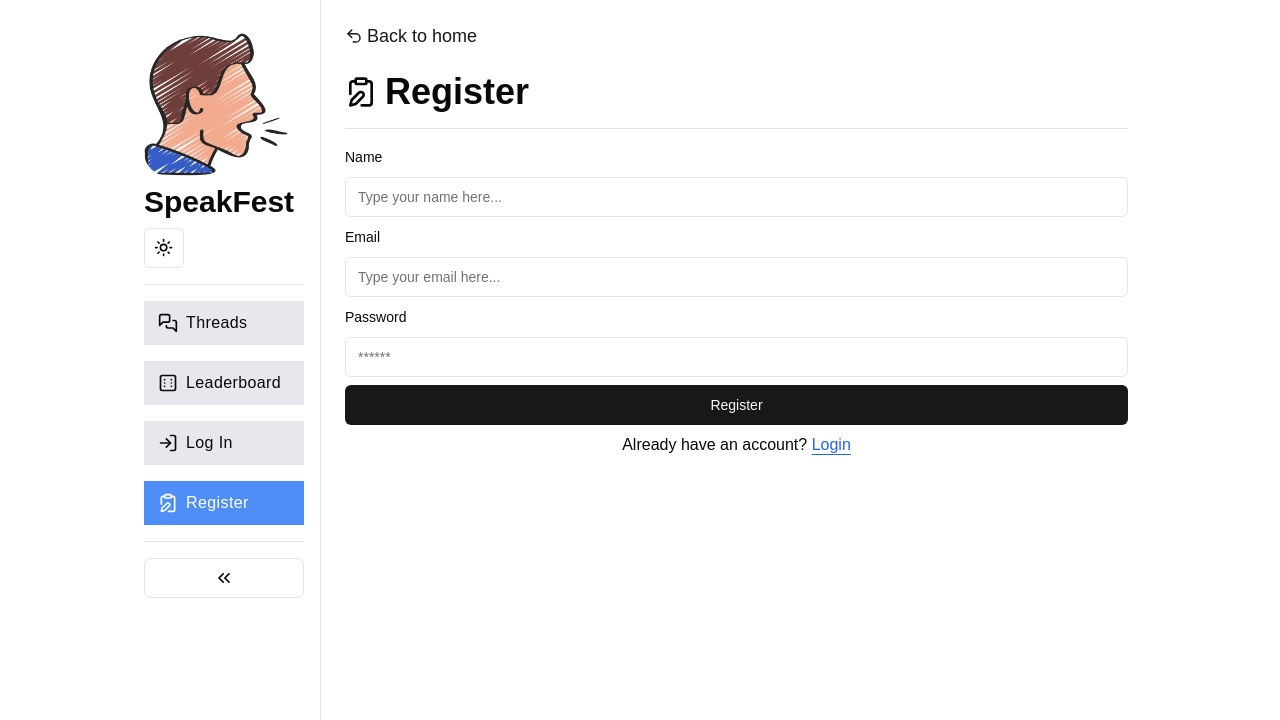
Test: Register spec › should display error message and disabled button register if name less than 3 character
The width and height of the screenshot is (1280, 720).
In the field labelled "Name": [737, 197] box left=345, top=177, right=1128, bottom=217, type "ze"
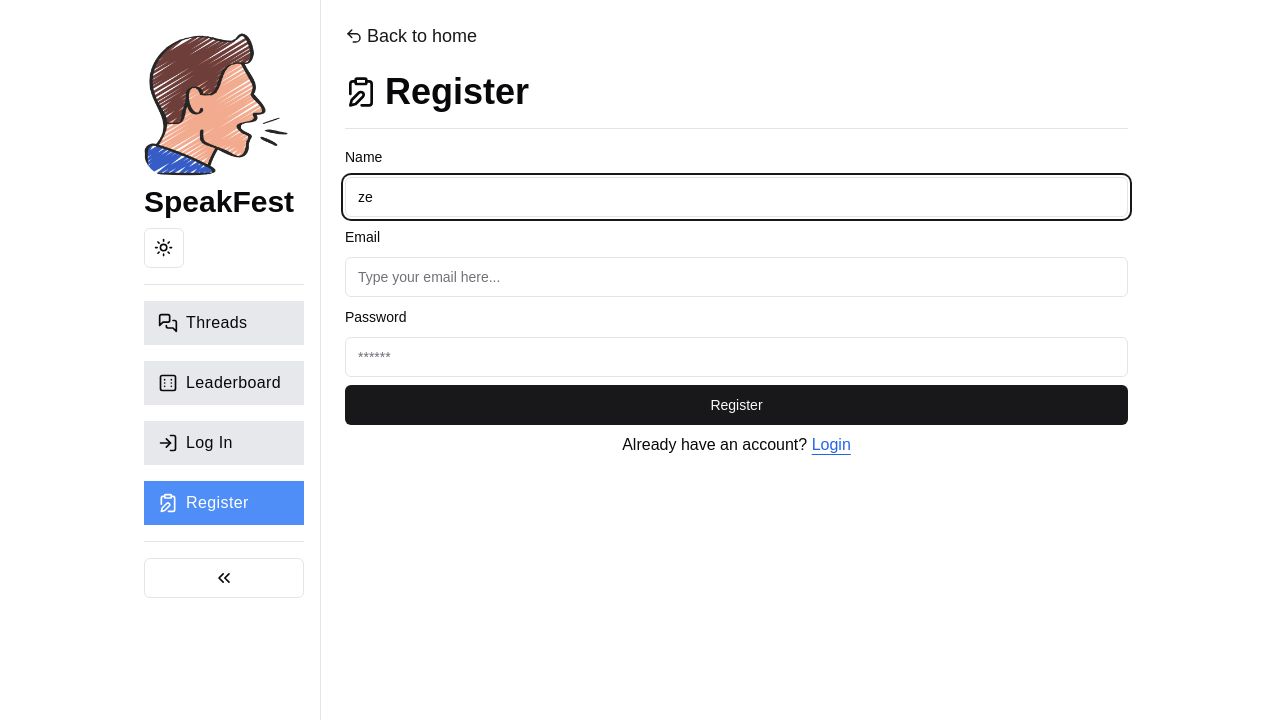
Submit the form, box left=345, top=145, right=1128, bottom=425
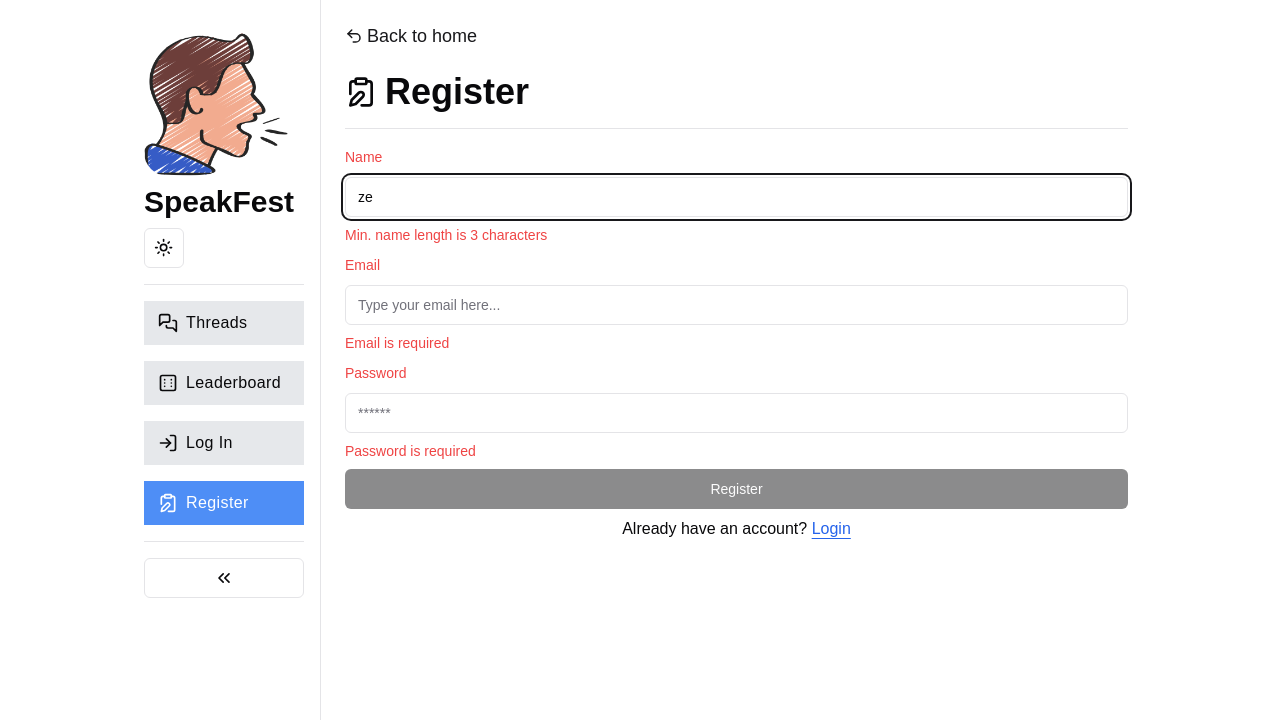
Expected: the text "Min. name length is 3 characters" is shown, left=345, top=227, right=547, bottom=243
Expected: the text "Email is required" is shown, left=345, top=335, right=449, bottom=351
Expected: the text "Password is required" is shown, left=345, top=443, right=476, bottom=459
